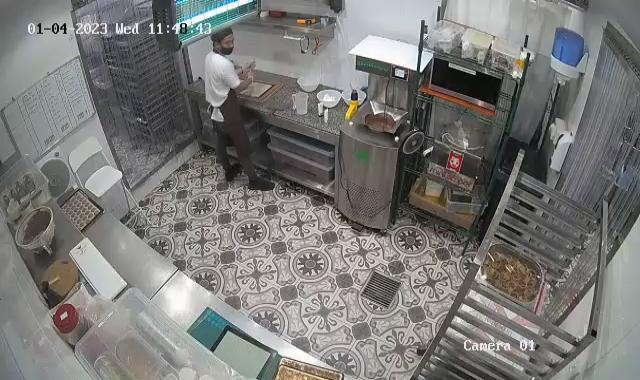no_hairnet: (208, 28, 232, 47)
